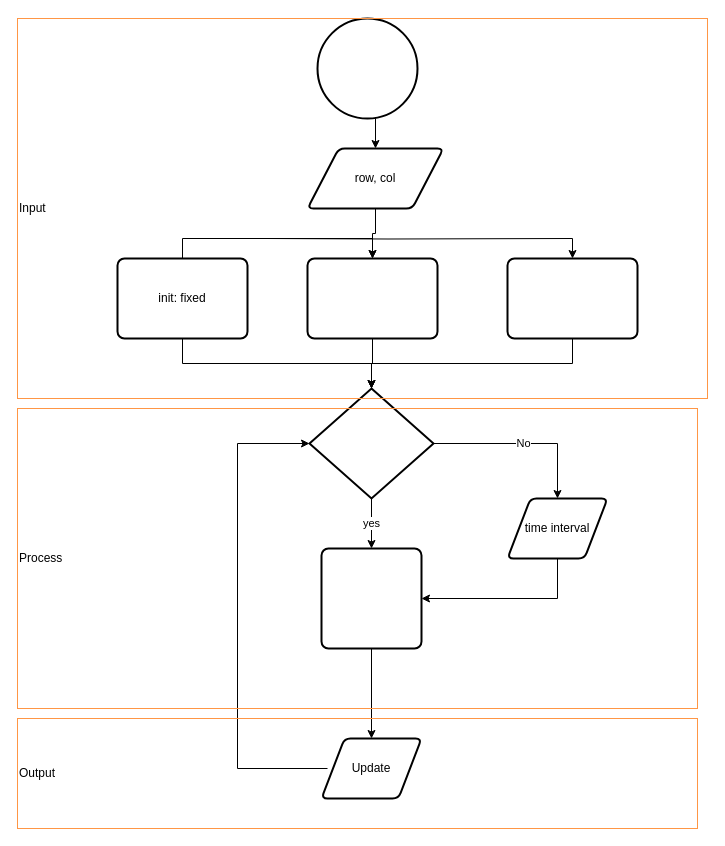
The diagram is 725 pixels wide and 846 high, and some of its shapes have lost their labels. The shapes that lost their labels are listed below. From the top down, each one's centre as x and y in pixels, then its label:
At (372,298): "init: random".
At (572,298): "init: pre sets".
At (371,443): "one Generation?".
At (371,598): "Next()".
